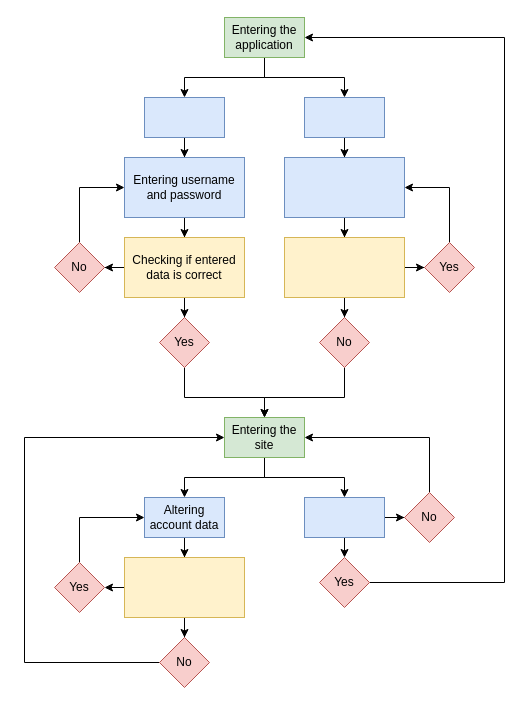
This 530x705 diagram has some shape labels left out. The shapes that lost their labels are listed below. From the top down, each one's centre as x and y in pixels, then its label:
the point at 184,117: Login
the point at 344,117: Registration
the point at 344,187: Entering username, password, email, API key and API secret
the point at 344,267: Checking if entered data is incorrect and already used
the point at 344,517: Deleting account
the point at 184,587: Checking is the new data already used
